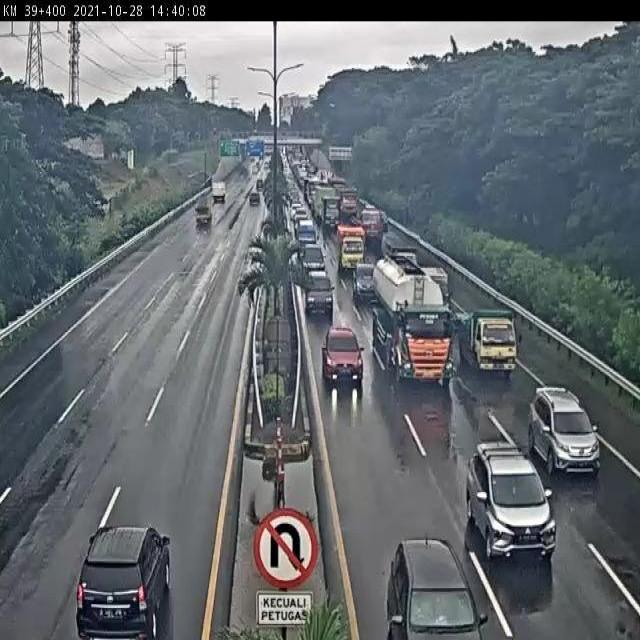big truck: (374, 254, 454, 386)
car: (463, 441, 557, 560), (75, 524, 171, 640), (383, 537, 484, 640), (526, 382, 602, 478), (320, 320, 364, 380), (352, 260, 380, 301), (304, 269, 331, 308), (300, 241, 321, 268)
small truck: (458, 304, 521, 376), (414, 253, 446, 300), (333, 217, 361, 263)
